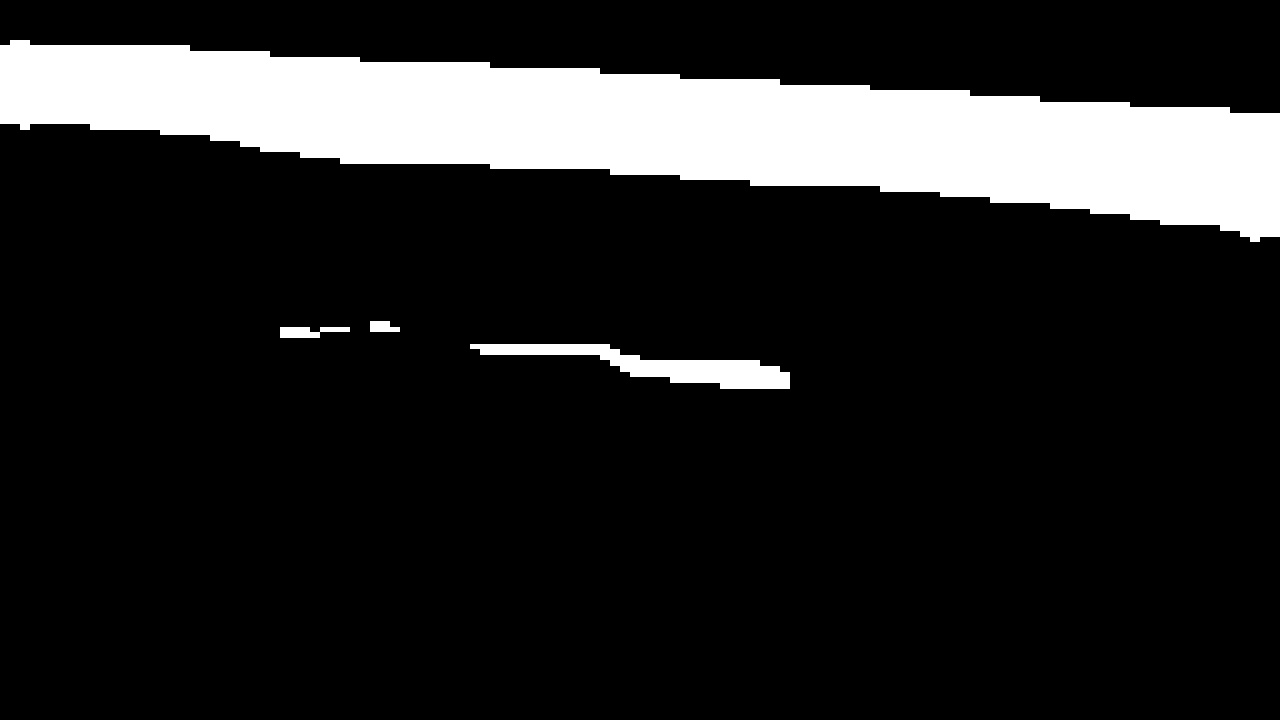Turbine: (9, 29, 1271, 427)
